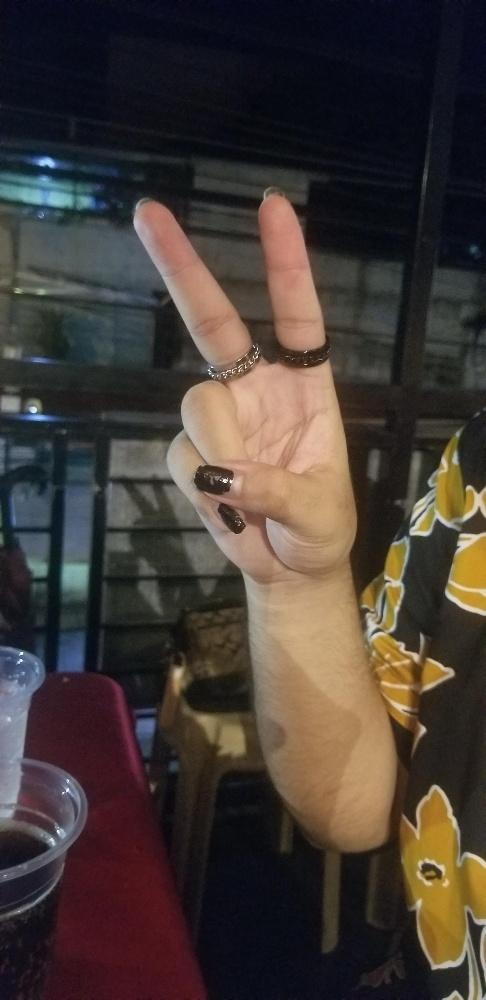v: (133, 190, 350, 573)
